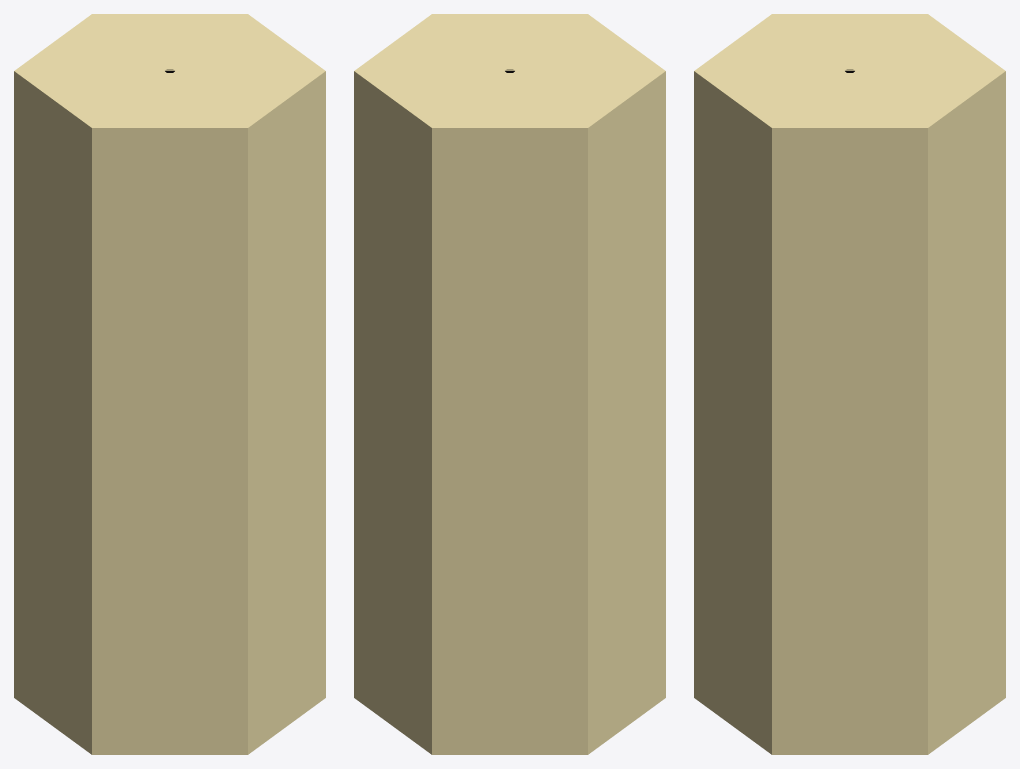
The model's file is candle.glb.
The picture shows the model from 3 angles, left to right: view 1: azimuth 30°, elevation 25°; view 2: azimuth 150°, elevation 25°; view 3: azimuth 270°, elevation 25°; orthographic projection.
Visible parts, largest first — view 1: candle; view 2: candle; view 3: candle.
Part boxes in pixels (x1,y1,x2,y2): candle: (14,14,325,754); candle: (354,14,665,754); candle: (694,14,1005,754).
Size of the model in its own units: 0.114 by 0.292 by 0.1316.
